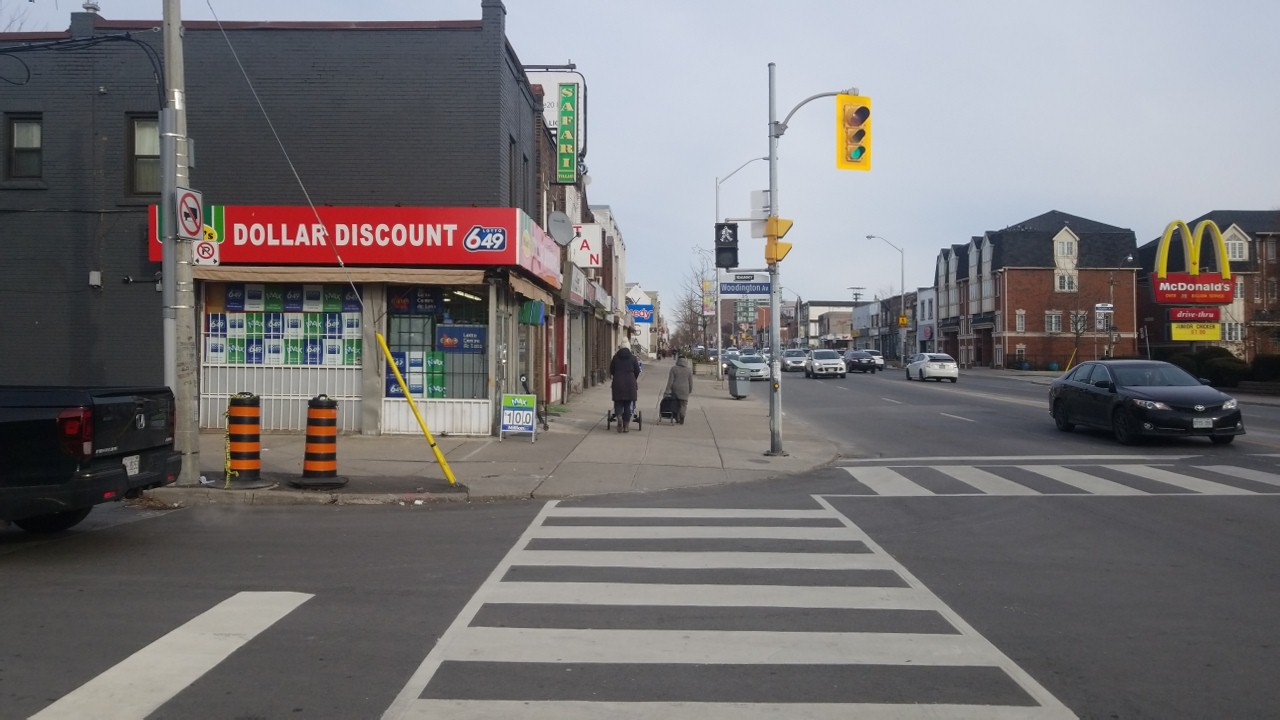light: (709, 217, 742, 271)
